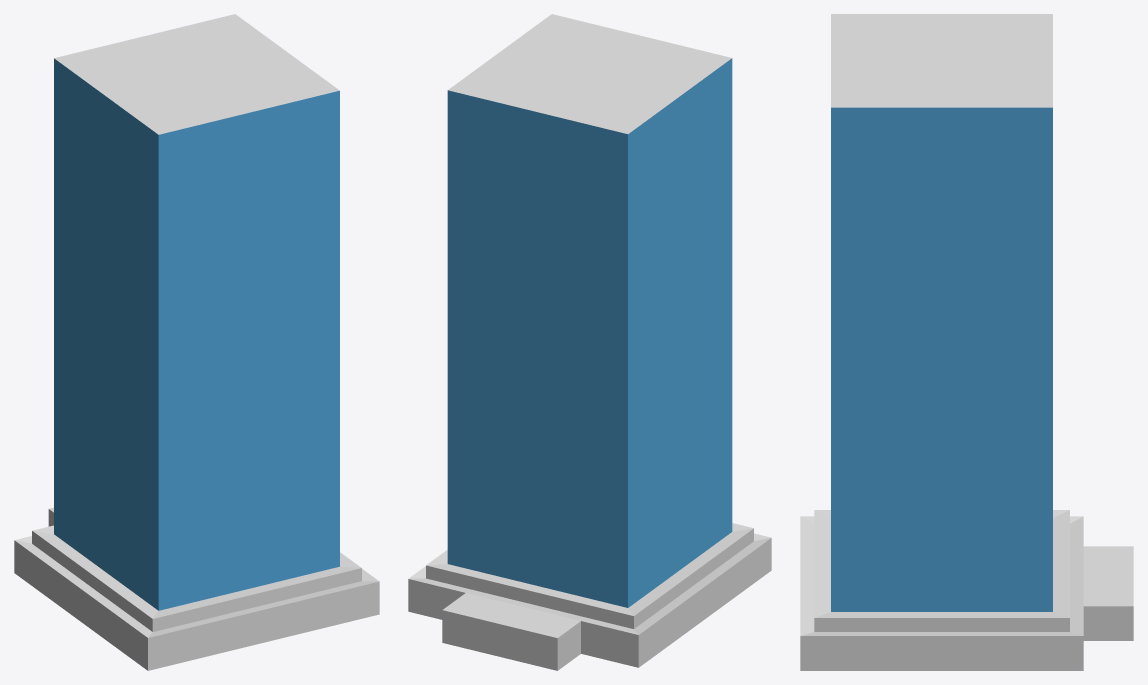
The model's file is standingShower.fbx.
3 renders of one model, left to right at view 1: azimuth 30°, elevation 25°; view 2: azimuth 150°, elevation 25°; view 3: azimuth 270°, elevation 25°, orthographic. The views are drawn at different scales.
Parts seen in each view (by area): view 1: Cube; view 2: Cube; view 3: Cube.
Boxes of the visible parts, x1,y1,x2,y2 form: Cube: [14, 14, 379, 670]; Cube: [408, 14, 771, 670]; Cube: [800, 14, 1133, 670].
Bounding box in the file's own units: 255 × 547 × 300.
